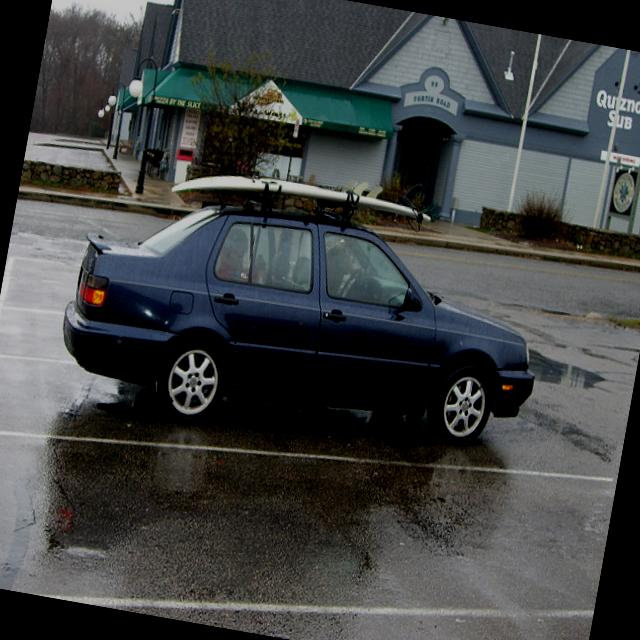Vehicle: (48, 160, 558, 474)
